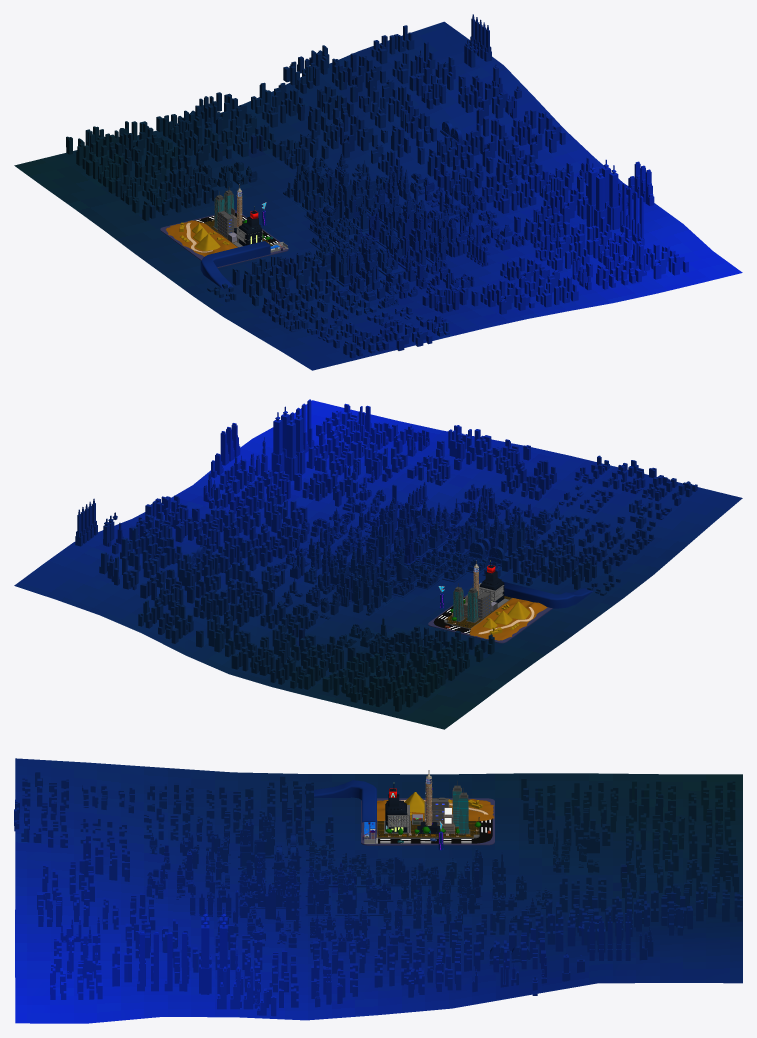
File: world.glb
3 views of the same model, one above another, from view 1: azimuth 30°, elevation 25°; view 2: azimuth 150°, elevation 25°; view 3: azimuth 270°, elevation 25° (orthographic). The views are drawn at different scales.
Parts seen in each view (by area): view 1: Mesh3, Mesh2, Mesh1, Mesh, metroBulding, Plane.003; view 2: Mesh3, Mesh2, Mesh1, Mesh, metroBulding, Plane.003, comBuilding; view 3: Mesh3, Mesh2, Mesh1, Mesh, metroBulding, Ground, Road, comBuilding, Plane.003, groundCity, building1.
Boxes of the visible parts, x1=… form: Mesh3: x1=14, y1=21, x2=742, y2=370; Mesh2: x1=66, y1=14, x2=688, y2=314; Mesh1: x1=198, y1=50, x2=646, y2=308; Mesh: x1=208, y1=165, x2=466, y2=286; metroBulding: x1=200, y1=241, x2=270, y2=288; Plane.003: x1=166, y1=220, x2=237, y2=256; Mesh3: x1=14, y1=400, x2=742, y2=729; Mesh2: x1=75, y1=399, x2=596, y2=711; Mesh1: x1=103, y1=405, x2=563, y2=654; Mesh: x1=322, y1=497, x2=528, y2=647; metroBulding: x1=503, y1=581, x2=592, y2=608; Plane.003: x1=469, y1=598, x2=547, y2=640; comBuilding: x1=451, y1=583, x2=479, y2=623; Mesh3: x1=14, y1=758, x2=742, y2=1023; Mesh2: x1=37, y1=775, x2=742, y2=1009; Mesh1: x1=60, y1=828, x2=653, y2=1016; Mesh: x1=238, y1=813, x2=599, y2=921; metroBulding: x1=305, y1=780, x2=376, y2=832; Ground: x1=361, y1=798, x2=494, y2=845; Road: x1=378, y1=818, x2=492, y2=843; comBuilding: x1=452, y1=781, x2=470, y2=834; Plane.003: x1=377, y1=799, x2=494, y2=821; groundCity: x1=377, y1=821, x2=479, y2=837; building1: x1=385, y1=783, x2=407, y2=832.
Bounding box in the file's own units: 265 × 55.59 × 319.
83 materials, 2 textured.
